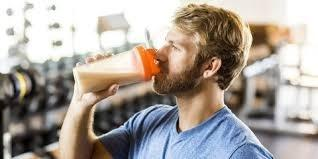Drinking: (74, 26, 220, 100)
